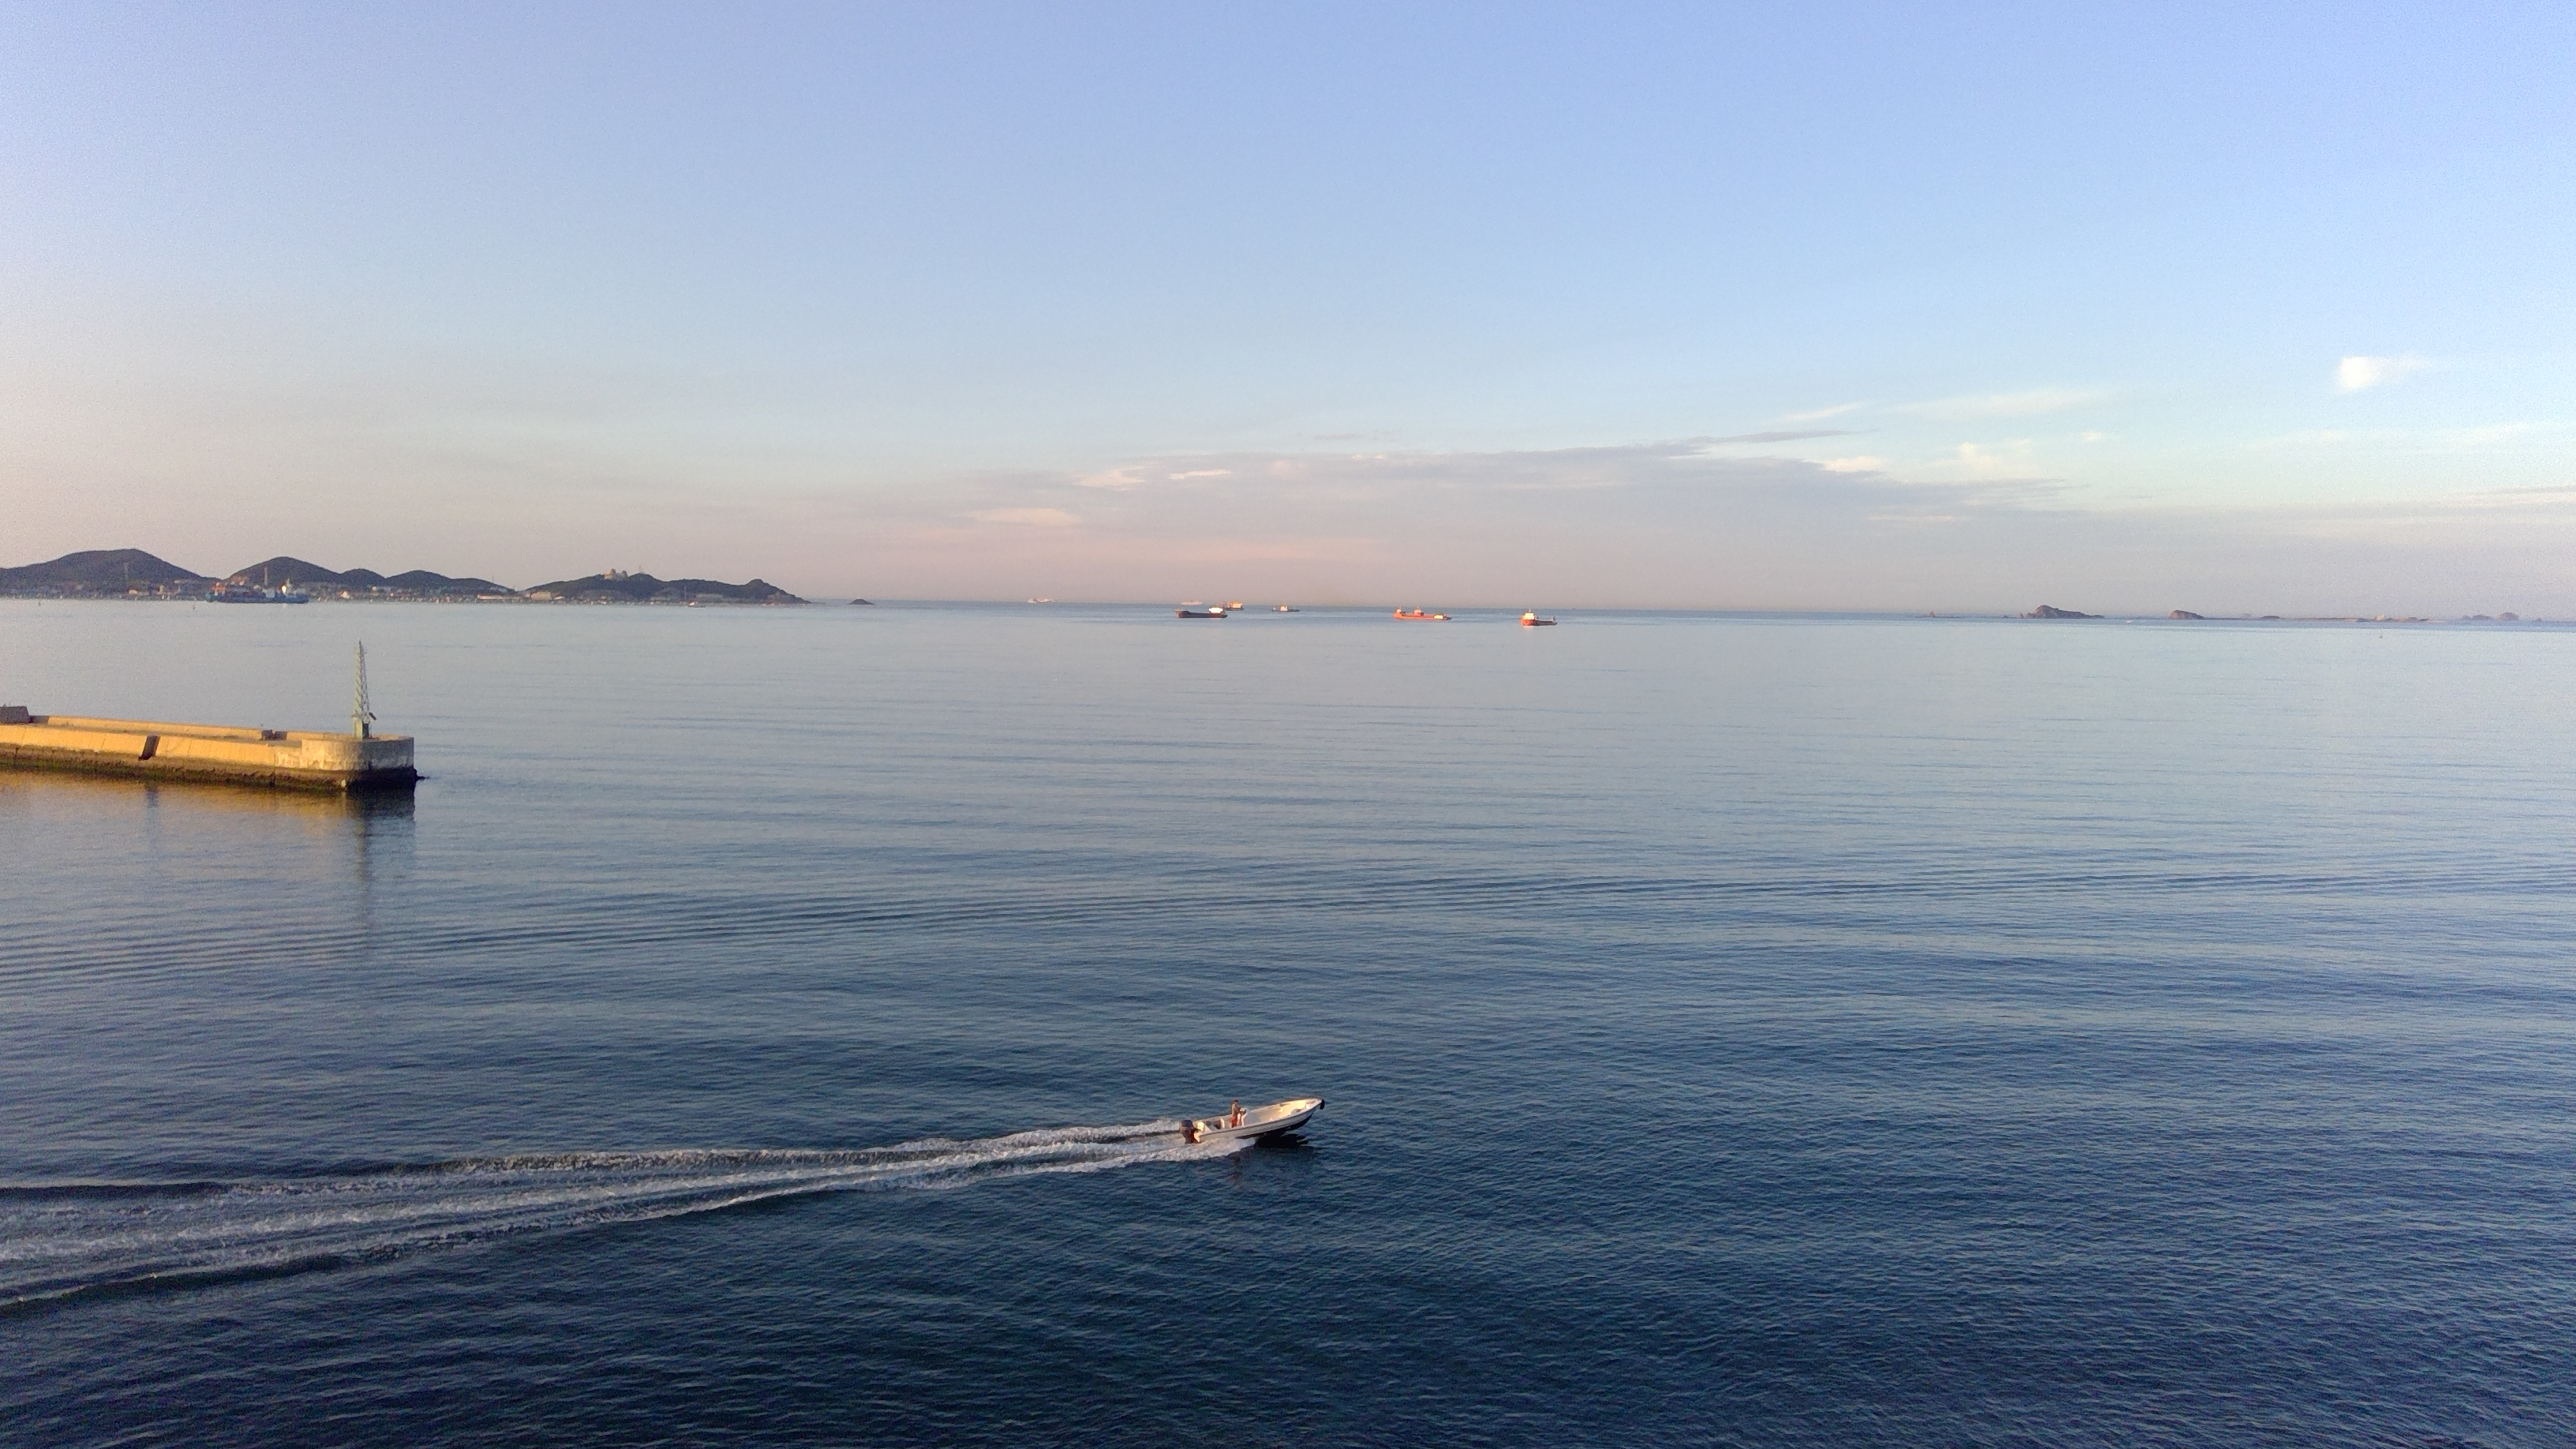boat: (1134, 1039, 1336, 1173)
harbor: (0, 633, 449, 810)
rock: (225, 548, 522, 607), (0, 543, 211, 602), (524, 566, 819, 605), (2026, 600, 2105, 626)
ship: (1382, 593, 1461, 630), (1168, 594, 1247, 623), (1520, 596, 1573, 630)
